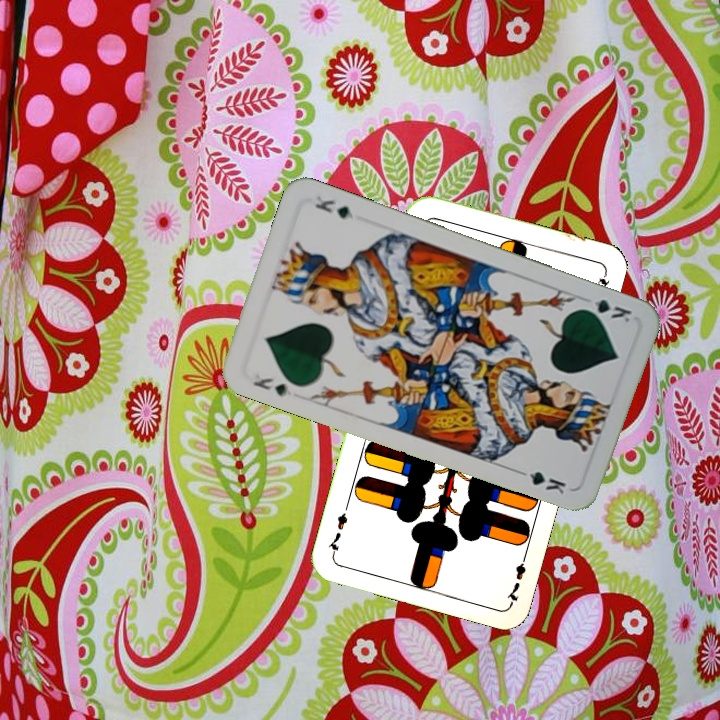E7: (502, 547, 530, 605)
GK: (576, 293, 635, 325), (249, 373, 294, 399)
